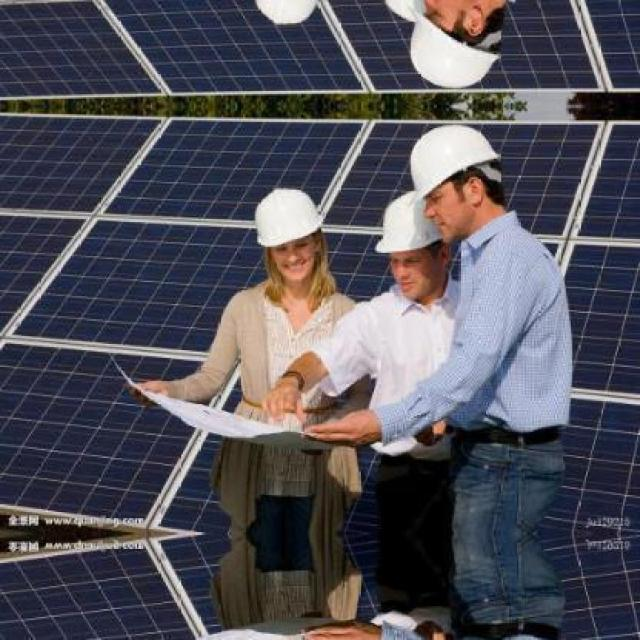helmet: (404, 108, 496, 204), (246, 179, 332, 259), (374, 187, 451, 260)
